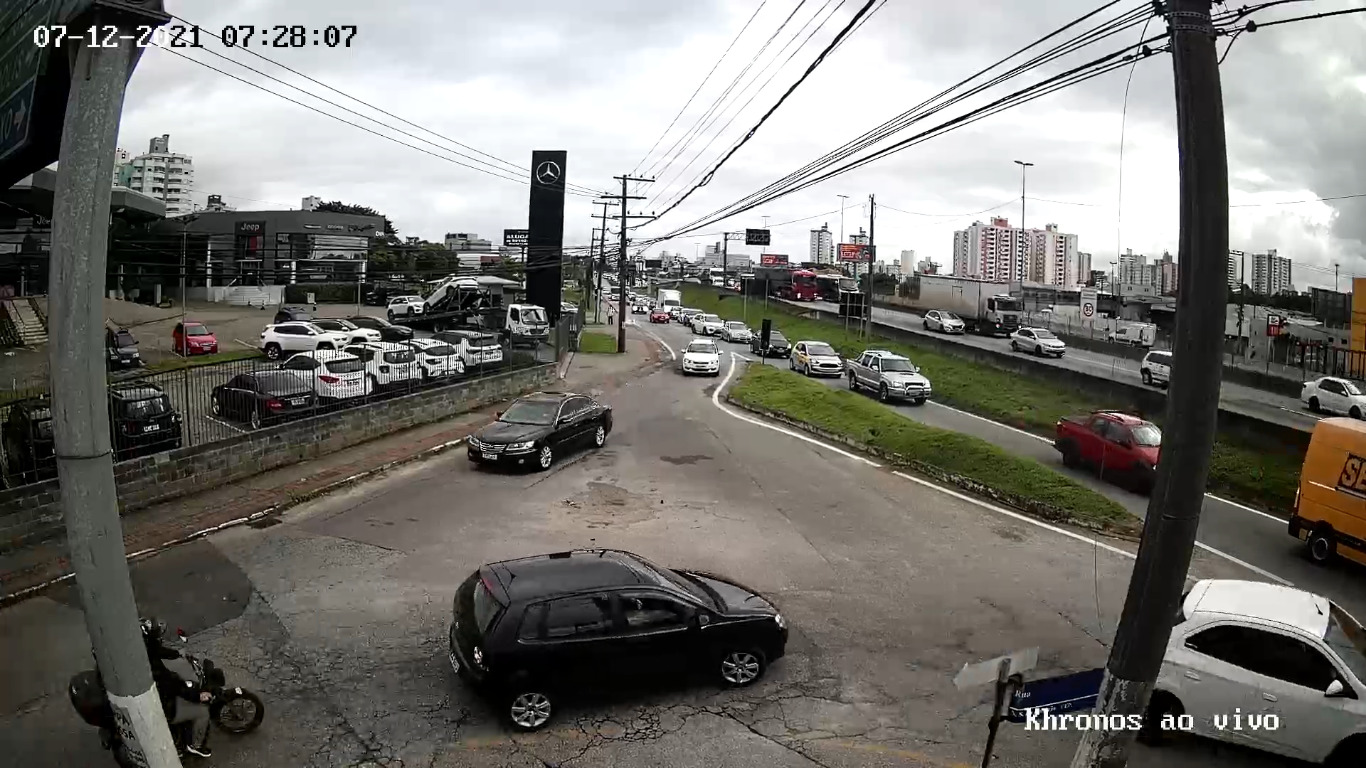car: (450, 548, 788, 734), (467, 390, 612, 474)
